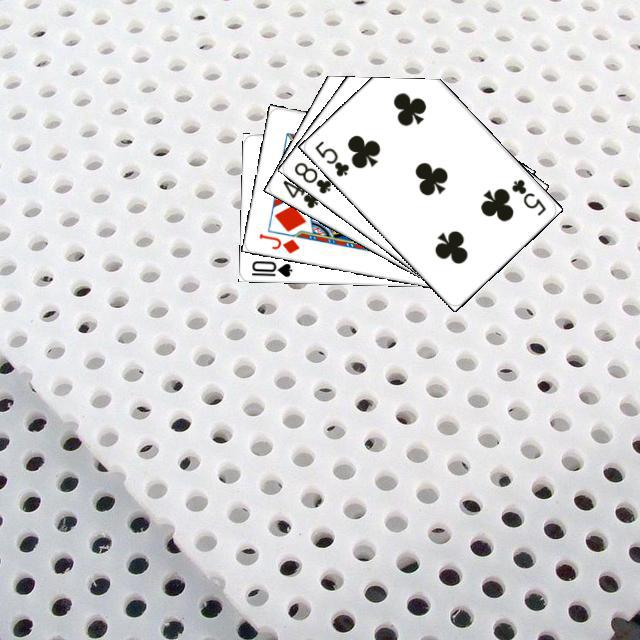10s: (247, 256, 294, 279)
4c: (278, 175, 320, 210)
5c: (506, 174, 548, 217), (310, 136, 351, 178)
8c: (289, 157, 333, 195)
Jd: (254, 228, 301, 255)
